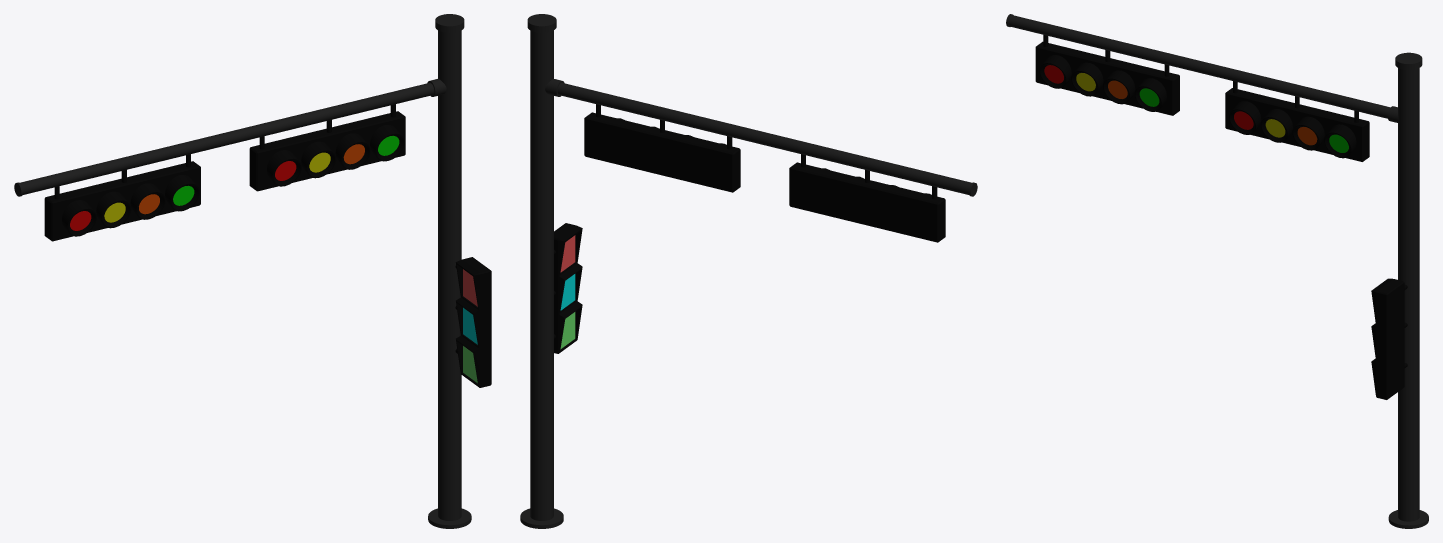
The model's file is stoplight_2.fbx.
3 views of the same model, side by side, from view 1: azimuth 30°, elevation 25°; view 2: azimuth 150°, elevation 25°; view 3: azimuth 330°, elevation 25° (orthographic). The views are drawn at different scales.
Parts seen in each view (by area): view 1: stoplight_2; view 2: stoplight_2; view 3: stoplight_2.
Boxes of the visible parts, x1=… form: stoplight_2: x1=14, y1=14, x2=491, y2=528; stoplight_2: x1=520, y1=14, x2=977, y2=528; stoplight_2: x1=1006, y1=14, x2=1428, y2=528.
Bounding box in the file's own units: 166 × 176 × 27.82.
